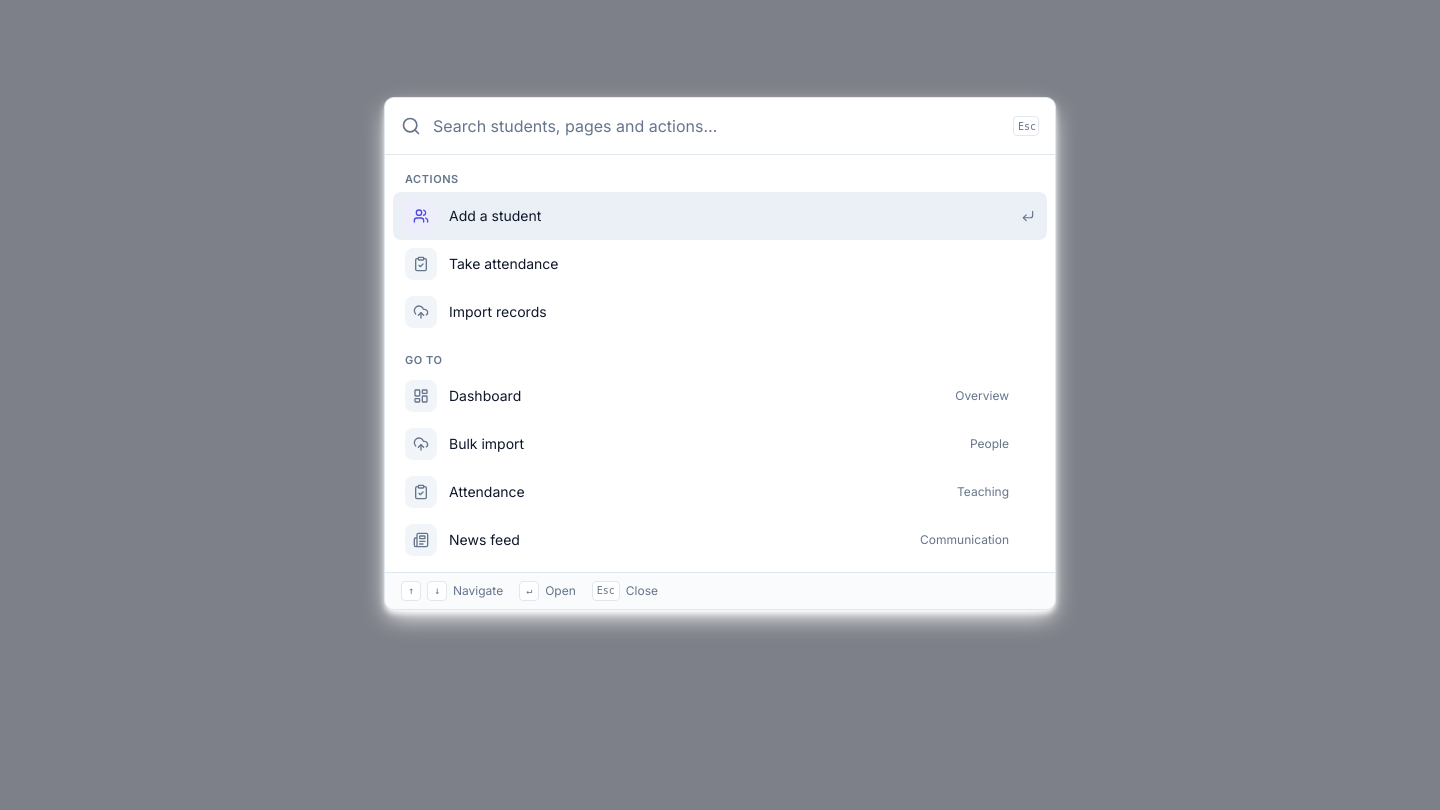
Test case: CommandPalette › says what it looked for when nothing matches
Type "zzzzz" into the dropdown named "command palette search" at (717, 126), box [433,98,1001,154]
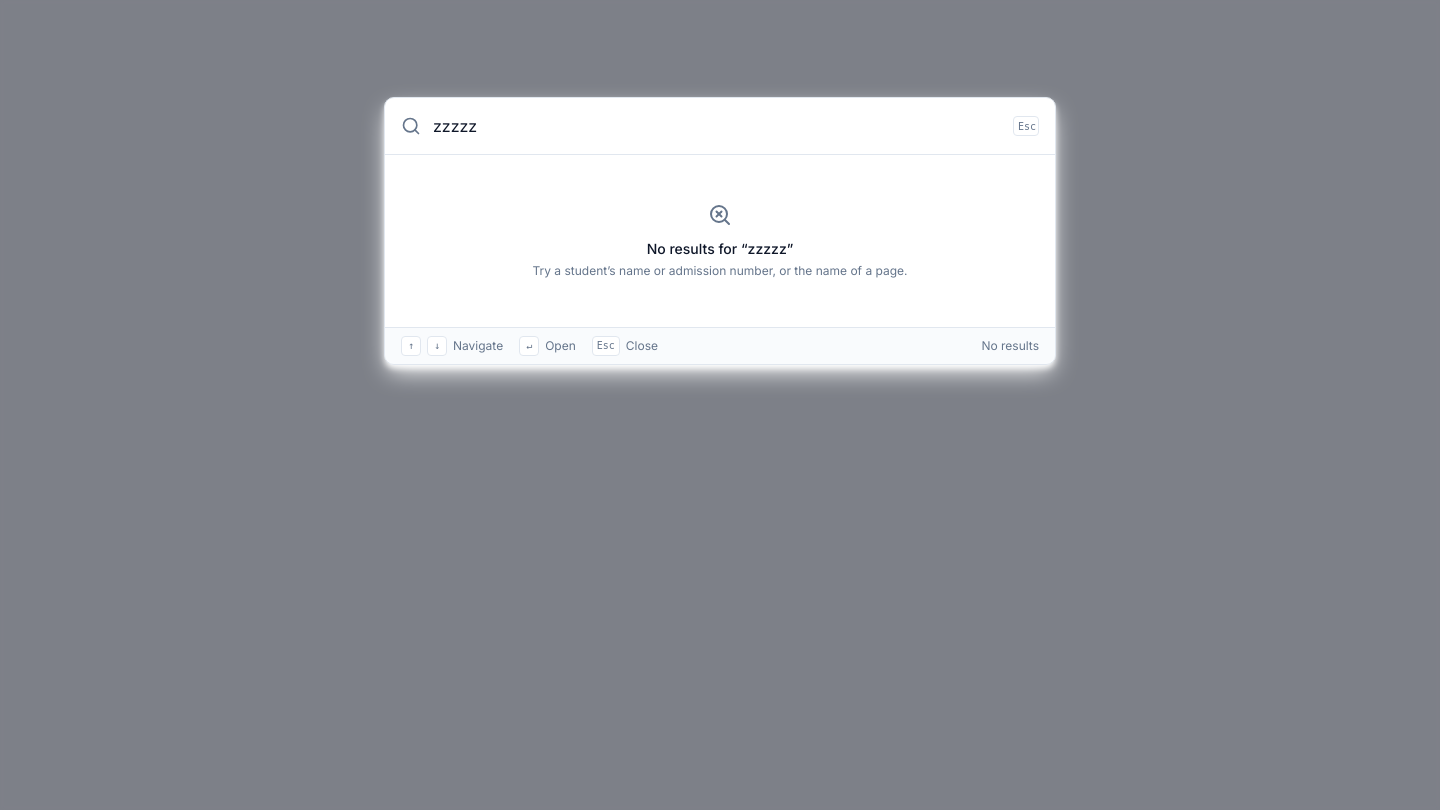
Result: the text "No results for “zzzzz”" is shown at [647,240,793,257]
Result: the text "student’s name or admission number" is shown at [532,263,908,278]
